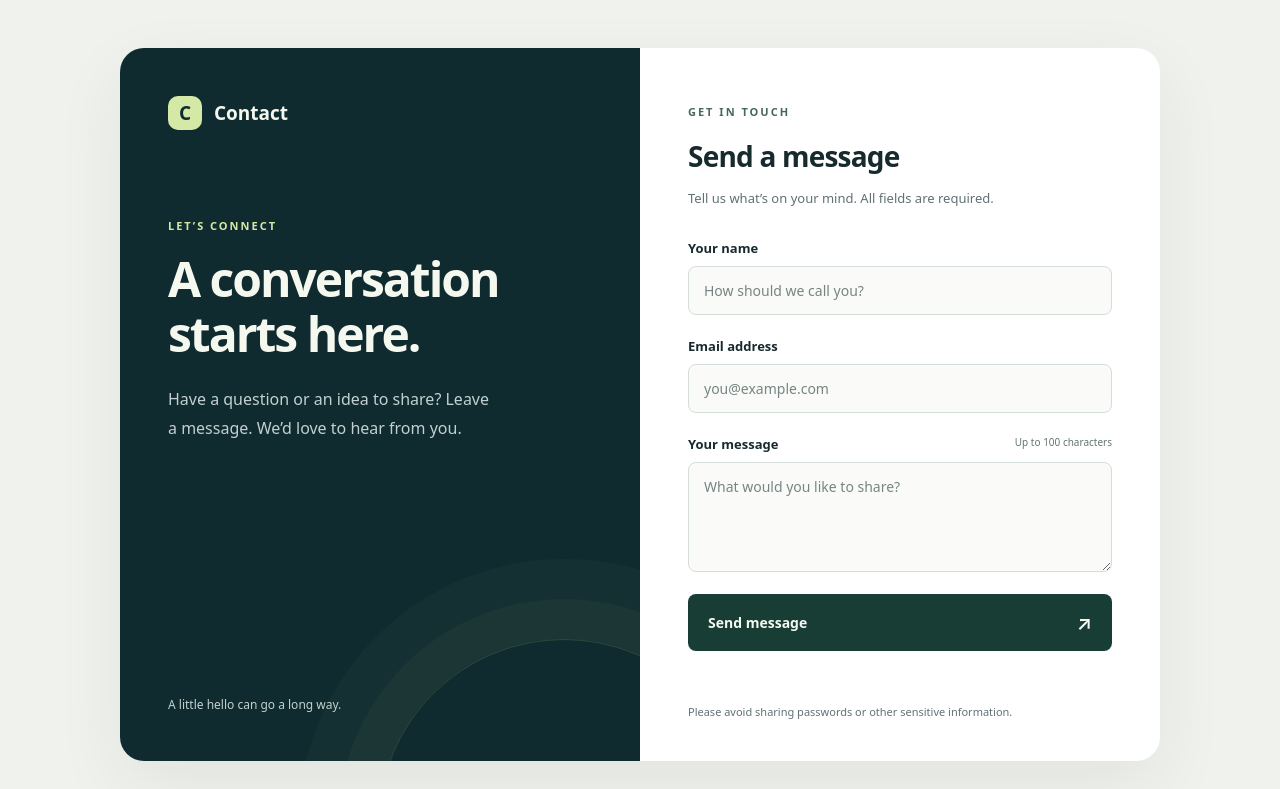
Test: Contact form › handles HTTP 422 without resetting input
Type " Test User " into the field labelled "Your name" at (900, 291), box [688, 266, 1112, 315]
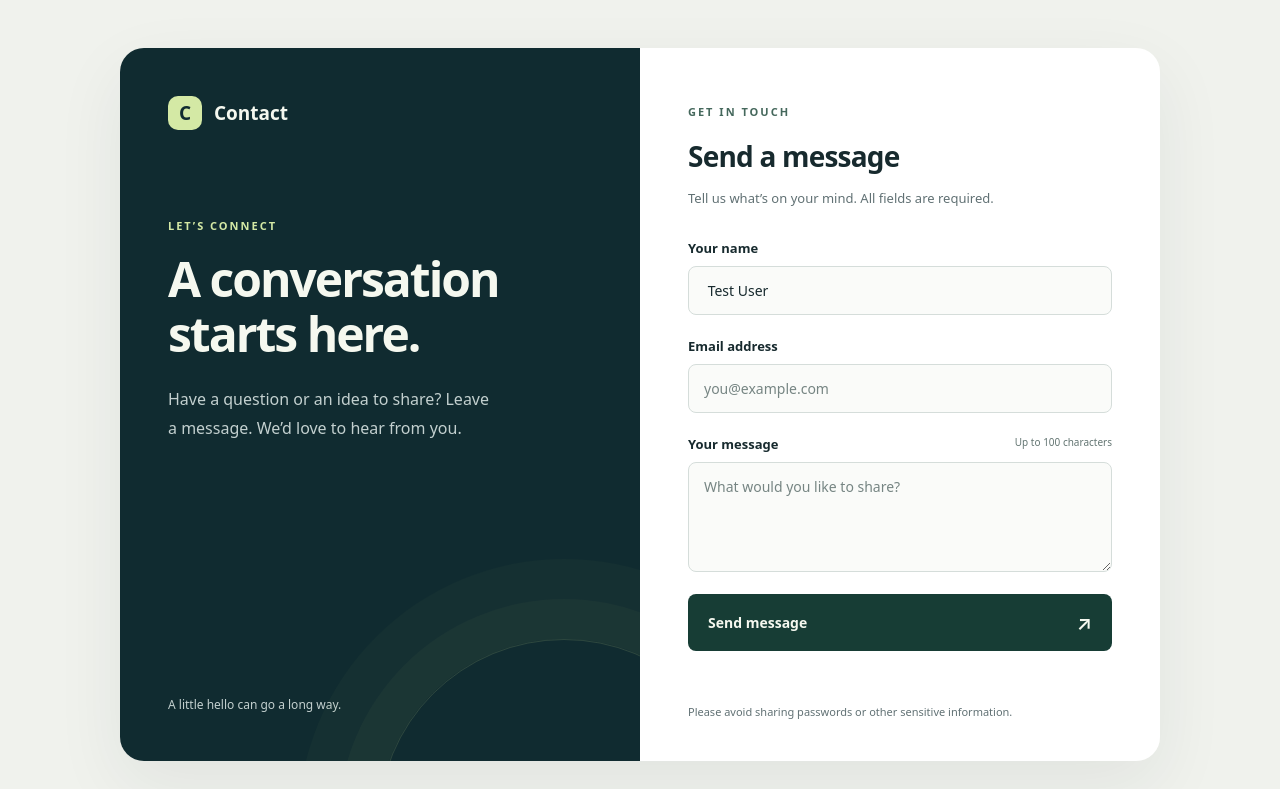
Type "user@example.com" into the field labelled "Email address" at (900, 389), box [688, 364, 1112, 413]
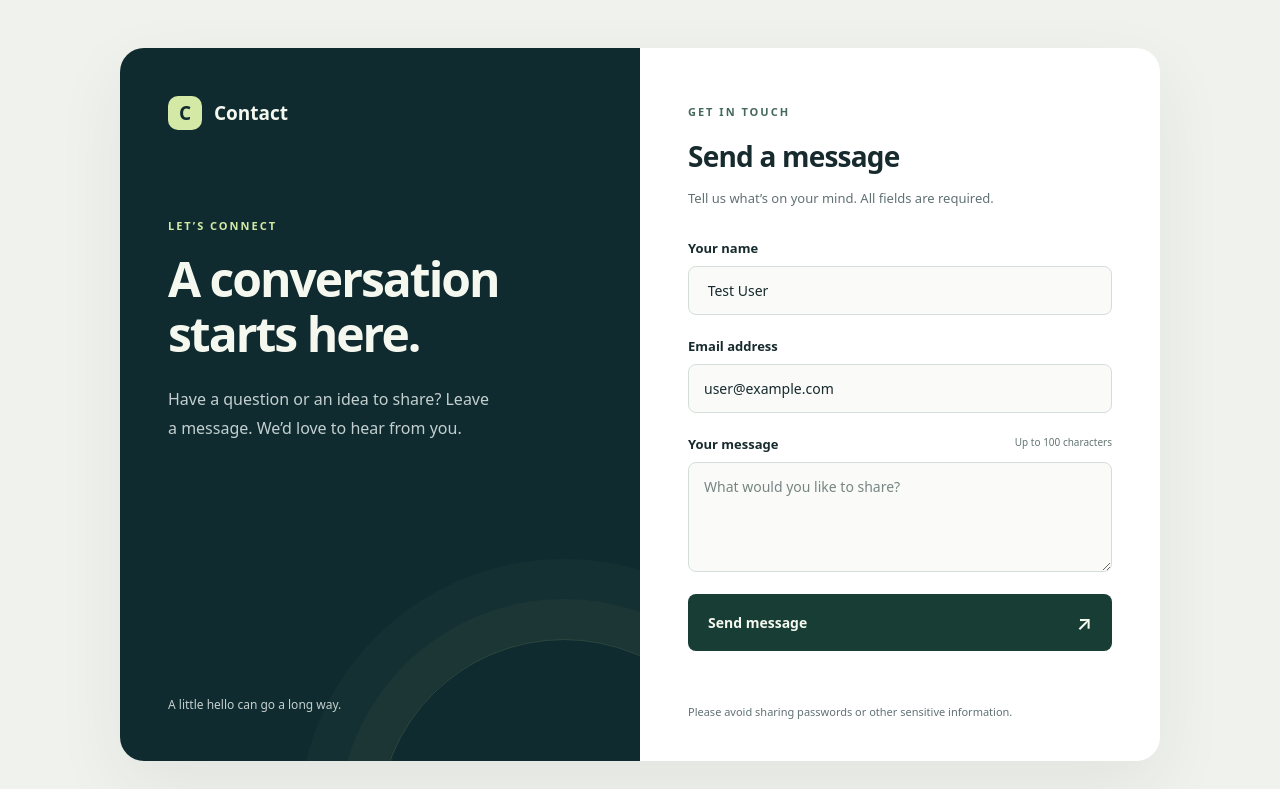
Type "Hello" into the text box labelled "Your message" at (900, 517), box [688, 462, 1112, 572]
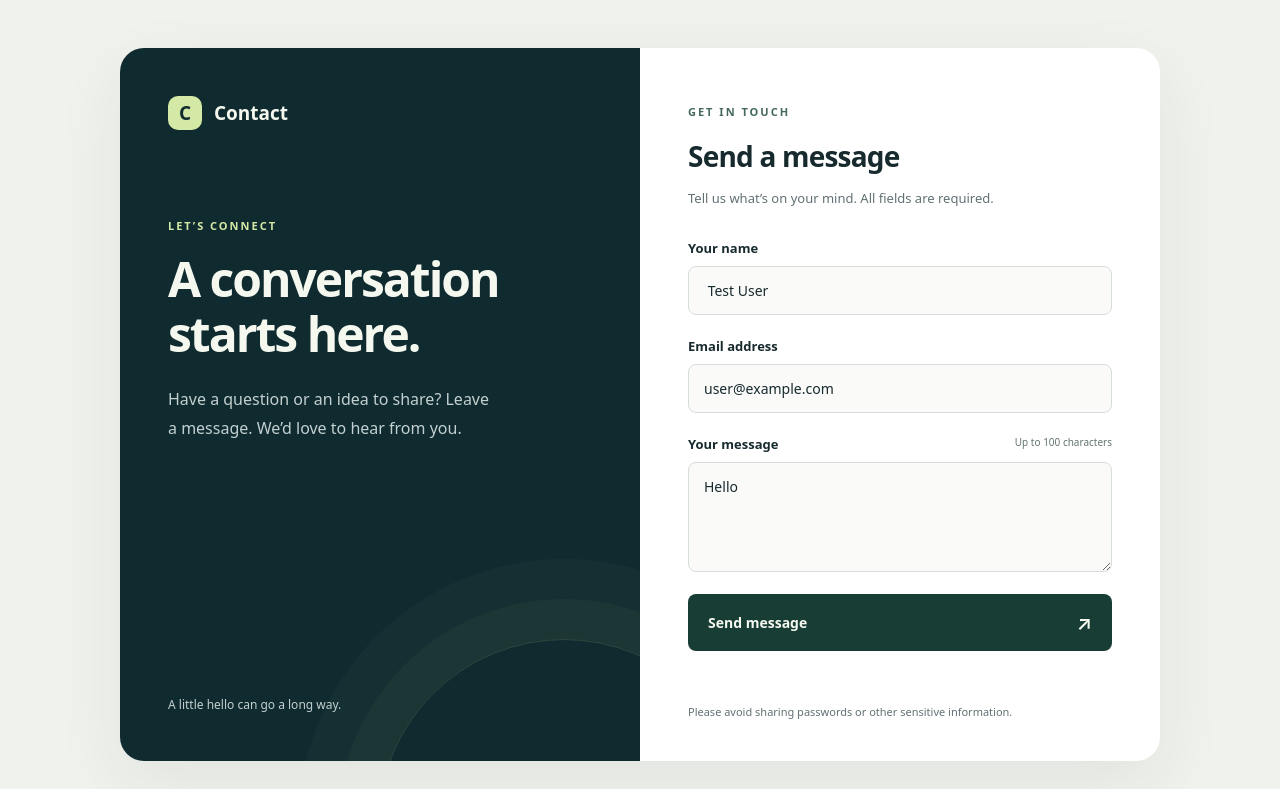
Click the button "Send message ↗" at (758, 623), box [688, 594, 1112, 651]
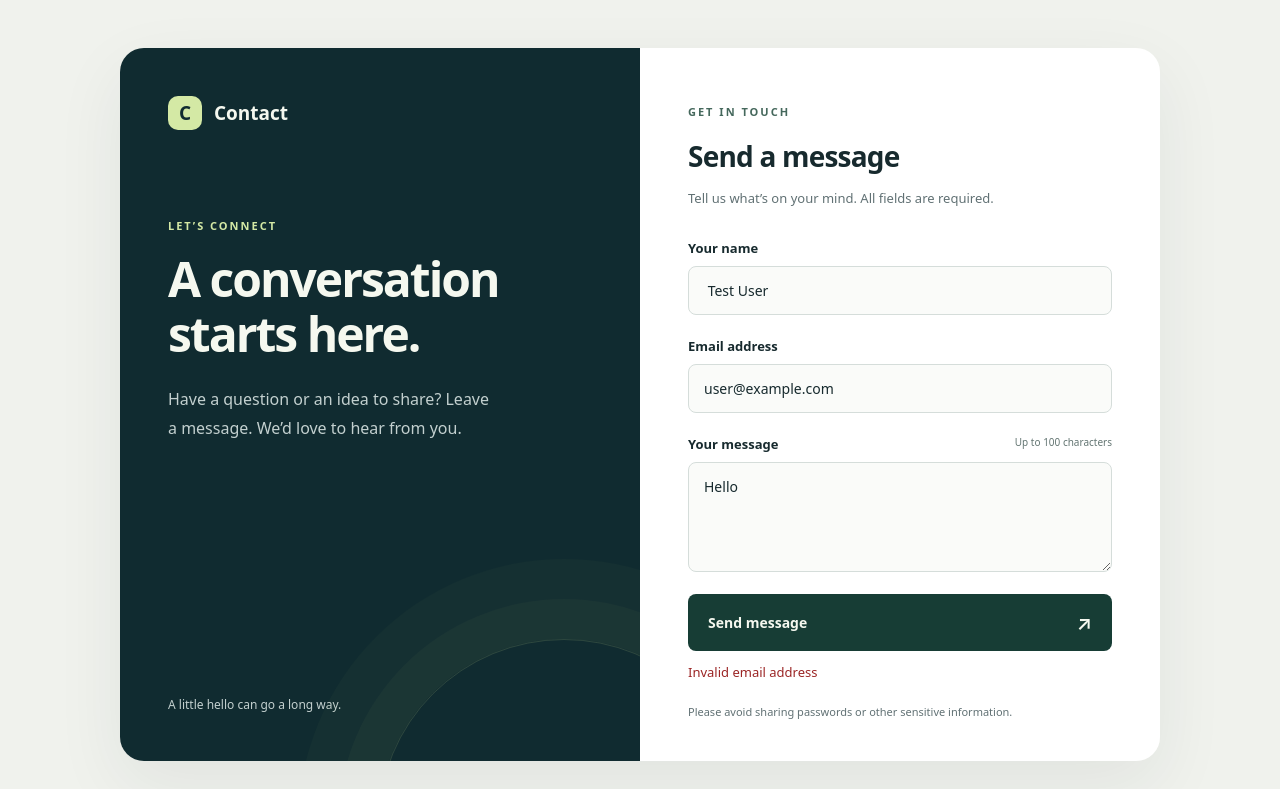
Expected: the message reads "Invalid email address", [688, 663, 818, 681]
